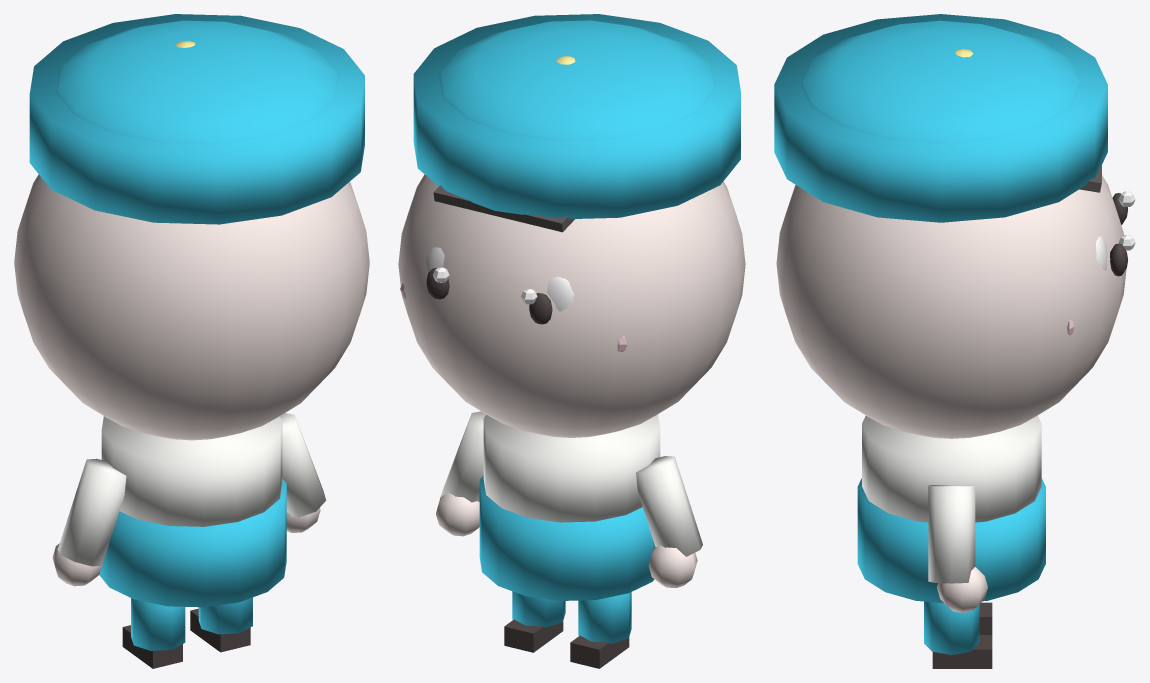
File: tuktuk_boy.glb
The picture shows the model from 3 angles, left to right: view 1: azimuth 30°, elevation 25°; view 2: azimuth 150°, elevation 25°; view 3: azimuth 270°, elevation 25°; orthographic projection. The views are drawn at different scales.
Parts seen in each view (by area): view 1: TT_Head, TT_Cap, TT_CapDome, TT_Chest, TT_Overalls, TT_Arm_L, TT_Arm_R, TT_Leg_L, TT_Leg_R, TT_Shoe_R, TT_Shoe_L, TT_Hand_L (+1 smaller); view 2: TT_Head, TT_Cap, TT_CapDome, TT_Chest, TT_Overalls, TT_Arm_L, TT_Arm_R, TT_Leg_L, TT_Hand_L, TT_Hand_R, TT_Leg_R, TT_Visor (+4 smaller); view 3: TT_Head, TT_Cap, TT_CapDome, TT_Chest, TT_Overalls, TT_Arm_R, TT_Leg_R, TT_Hand_R, TT_Shoe_R.
Boxes of the visible parts, <box> form: TT_Head: <box>14,174,369,440</box>; TT_Cap: <box>29,14,364,224</box>; TT_CapDome: <box>56,20,338,144</box>; TT_Chest: <box>101,416,282,526</box>; TT_Overalls: <box>99,478,286,607</box>; TT_Arm_L: <box>57,458,126,566</box>; TT_Arm_R: <box>280,413,326,517</box>; TT_Leg_L: <box>131,598,185,650</box>; TT_Leg_R: <box>198,597,252,634</box>; TT_Shoe_R: <box>190,608,250,652</box>; TT_Shoe_L: <box>122,625,182,668</box>; TT_Hand_L: <box>52,543,101,586</box>; TT_Head: <box>398,174,745,437</box>; TT_Cap: <box>413,14,740,219</box>; TT_CapDome: <box>439,20,715,141</box>; TT_Chest: <box>483,414,660,522</box>; TT_Overalls: <box>479,475,654,600</box>; TT_Arm_L: <box>636,456,702,556</box>; TT_Arm_R: <box>441,411,486,502</box>; TT_Leg_L: <box>578,592,631,643</box>; TT_Hand_L: <box>648,545,697,587</box>; TT_Hand_R: <box>436,492,479,536</box>; TT_Leg_R: <box>512,591,565,627</box>; TT_Visor: <box>433,185,574,232</box>; TT_Head: <box>776,175,1126,438</box>; TT_Cap: <box>774,14,1107,222</box>; TT_CapDome: <box>800,20,1081,143</box>; TT_Chest: <box>862,415,1041,522</box>; TT_Overalls: <box>857,478,1045,603</box>; TT_Arm_R: <box>928,485,975,583</box>; TT_Leg_R: <box>924,601,979,654</box>; TT_Hand_R: <box>937,567,987,612</box>; TT_Shoe_R: <box>932,635,992,668</box>.
Bounding box in the file's own units: 1.64 × 3.07 × 1.69.
